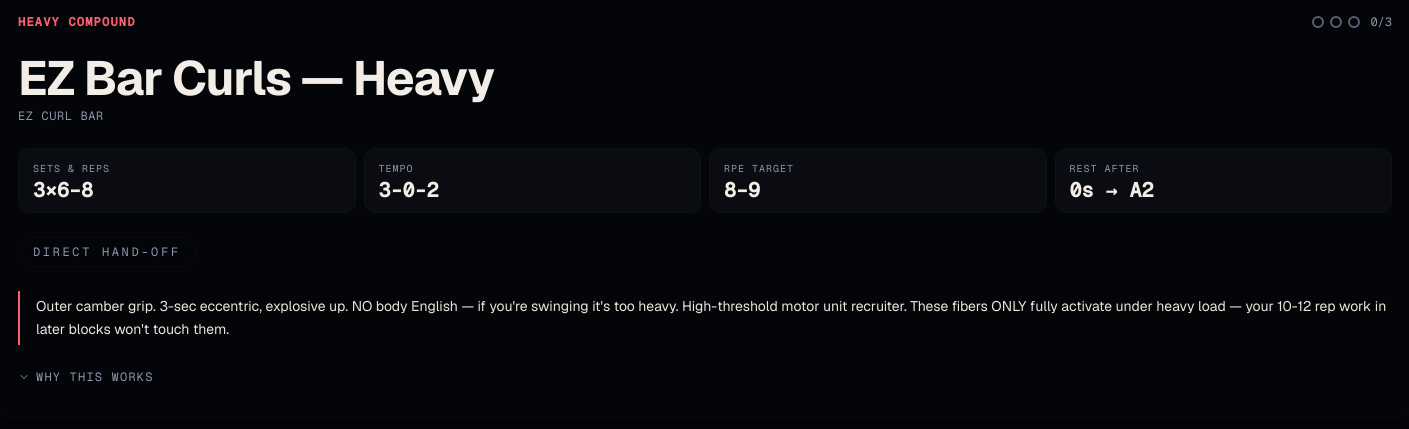
Scenario: ExercisePanel › expands WHY THIS WORKS on click
This screenshot has width=1409, height=429.
Click the button "Why This Works": (86, 376) [18,368,154,384]
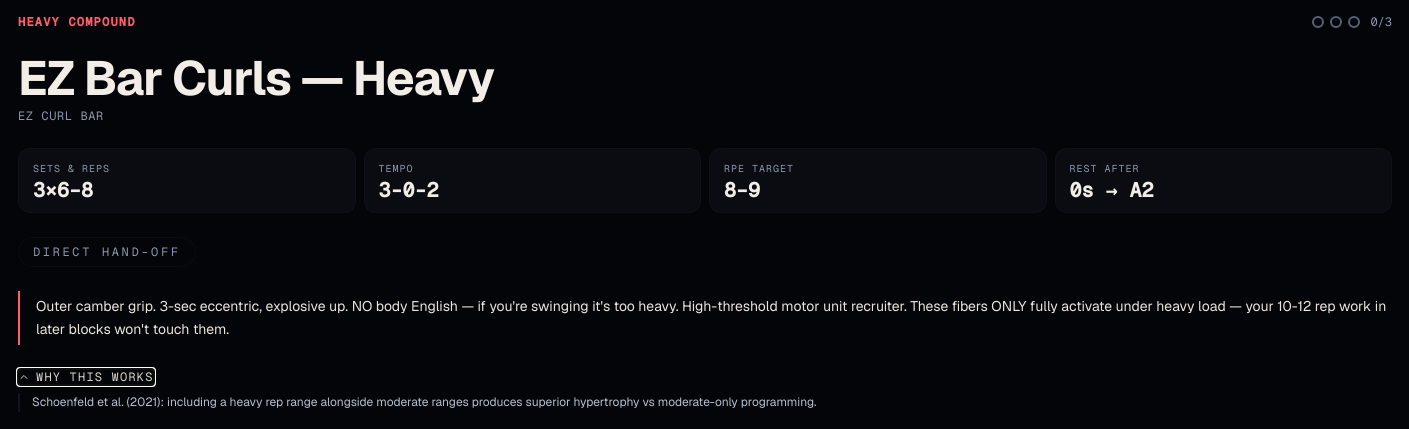
Expected: the text "Schoenfeld" is shown, [32,394,816,410]
